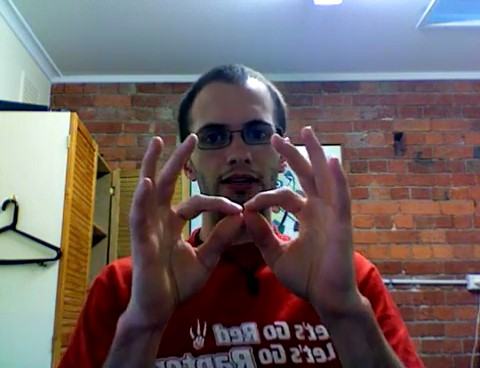B: (117, 123, 365, 321)
